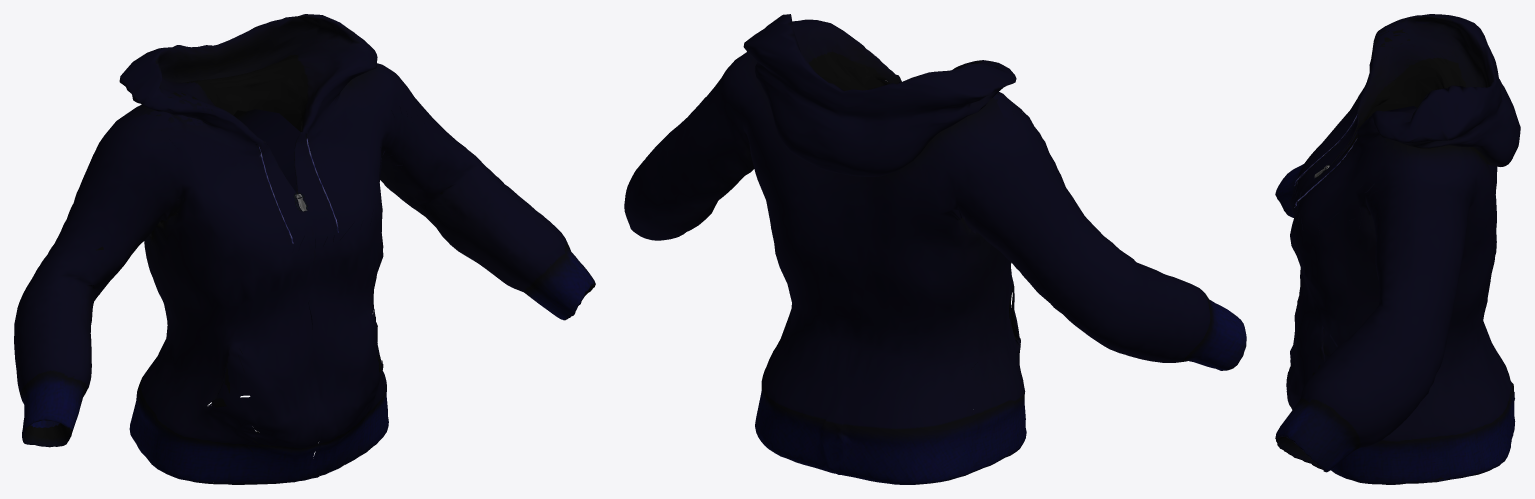
File: ONFIT_HoodedJacket_BodyBuild_v7.glb
The picture shows the model from 3 angles, left to right: view 1: azimuth 30°, elevation 25°; view 2: azimuth 150°, elevation 25°; view 3: azimuth 270°, elevation 25°; orthographic projection. The views are drawn at different scales.
Visible parts, largest first — view 1: ONFIT_HoodedJacket; view 2: ONFIT_HoodedJacket; view 3: ONFIT_HoodedJacket.
Part boxes in pixels (box(x1,y1,x2,y2)): ONFIT_HoodedJacket: box(14, 14, 595, 484); ONFIT_HoodedJacket: box(624, 14, 1246, 484); ONFIT_HoodedJacket: box(1275, 14, 1520, 484).
Size of the model in its own units: 0.9705 by 0.638 by 0.366.
Materials: 1 (1 with a texture image).
